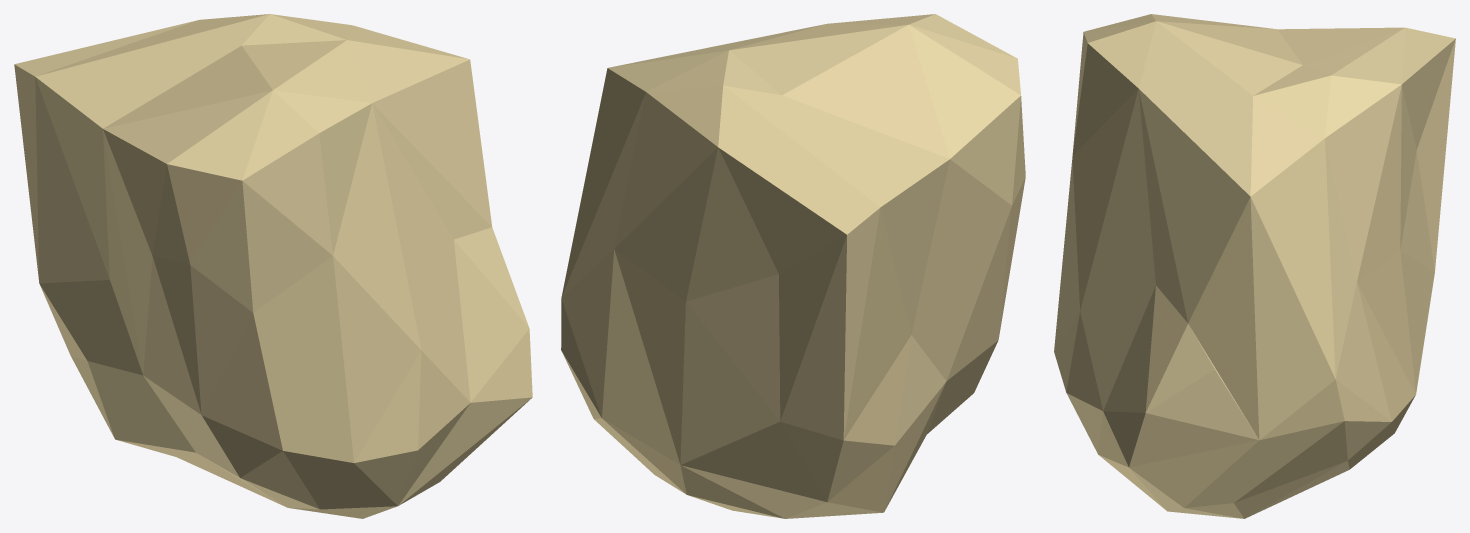
Rendered from Rock (80).fbx.
3 views of the same model, side by side, from view 1: azimuth 30°, elevation 25°; view 2: azimuth 150°, elevation 25°; view 3: azimuth 270°, elevation 25° (orthographic). The views are drawn at different scales.
Parts seen in each view (by area): view 1: Asteroid79; view 2: Asteroid79; view 3: Asteroid79.
Boxes of the visible parts, x1,y1,x2,y2 form: Asteroid79: (14, 14, 532, 518); Asteroid79: (561, 14, 1025, 518); Asteroid79: (1054, 14, 1455, 518).
Size of the model in its own units: 65.15 by 75.87 by 64.04.
